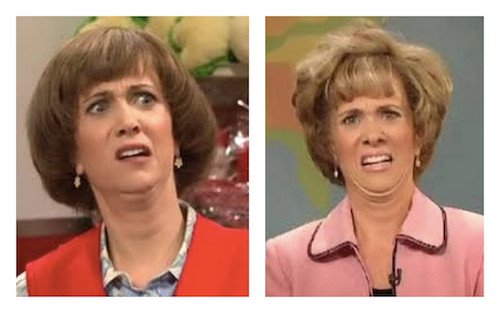confused: (81, 79, 178, 186), (330, 87, 416, 197)
